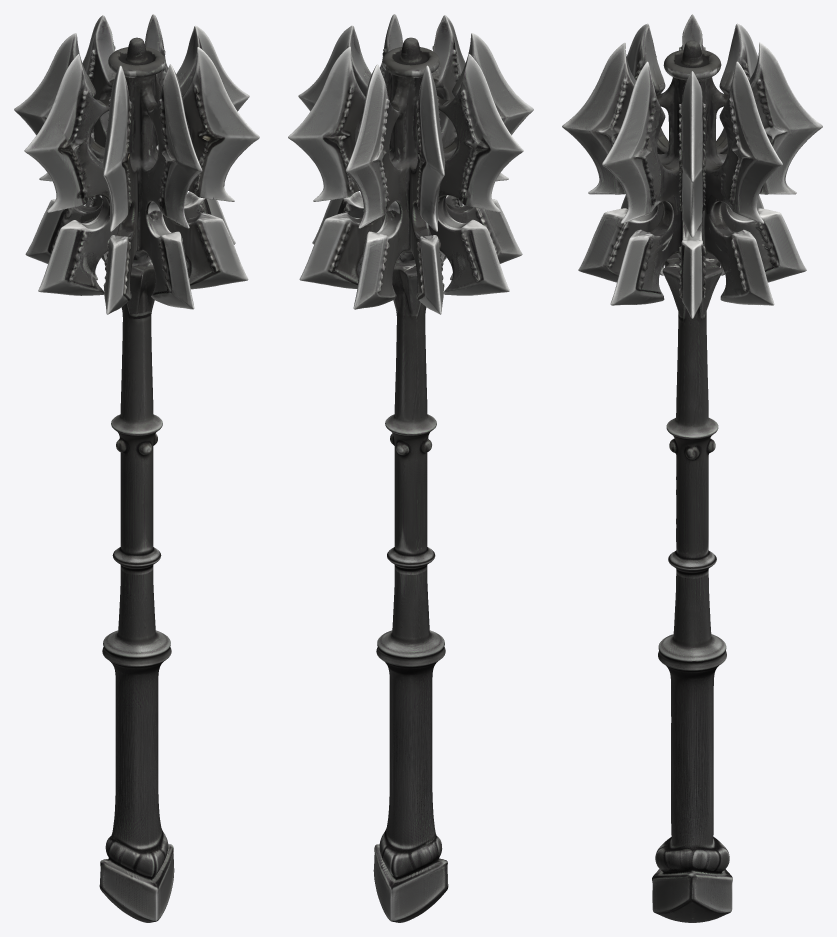
Rendered from MasseCavalier.fbx.
3 renders of one model, left to right at view 1: azimuth 30°, elevation 25°; view 2: azimuth 150°, elevation 25°; view 3: azimuth 270°, elevation 25°, orthographic.
Visible parts, largest first — view 1: Mesh_0; view 2: Mesh_0; view 3: Mesh_0.
Part boxes in pixels (<box>): Mesh_0: <box>14,14,259,922</box>; Mesh_0: <box>288,14,533,922</box>; Mesh_0: <box>562,14,822,922</box>.
Size of the model in its own units: 50.92 by 190 by 50.99.
Materials: 1 (1 with a texture image).
